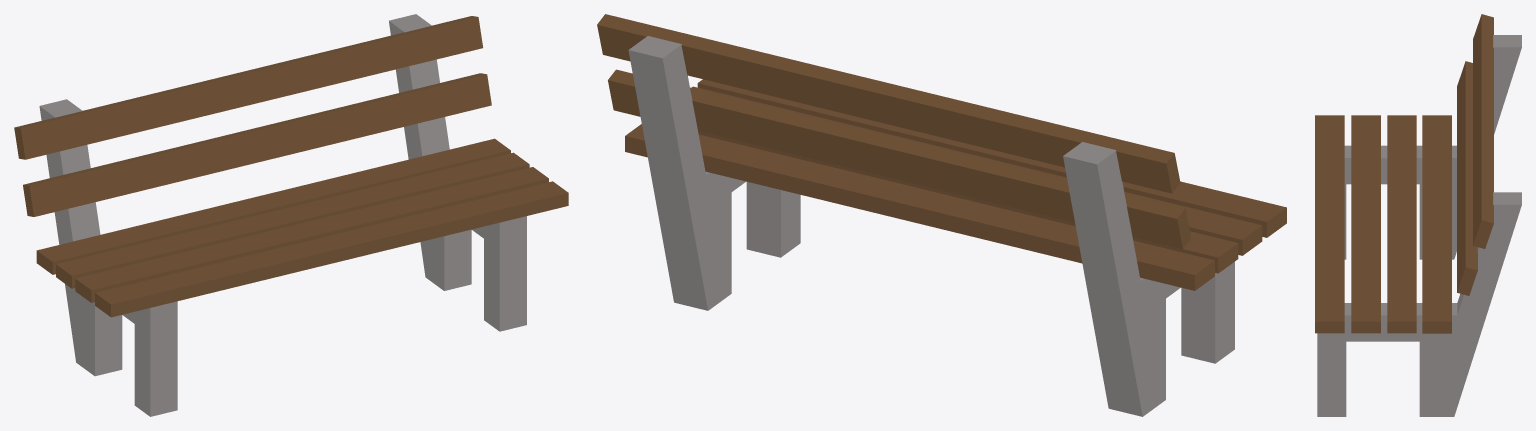
The model's file is bench-old.glb.
3 views of the same model, side by side, from view 1: azimuth 30°, elevation 25°; view 2: azimuth 150°, elevation 25°; view 3: azimuth 270°, elevation 25° (orthographic). The views are drawn at different scales.
Parts seen in each view (by area): view 1: bench-old; view 2: bench-old; view 3: bench-old.
Boxes of the visible parts, x1,y1,x2,y2 form: bench-old: (14,14,568,416); bench-old: (597,14,1286,416); bench-old: (1315,14,1521,416).
Size of the model in its own units: 1.67 by 0.8109 by 0.7073.
1 material, 1 textured.
